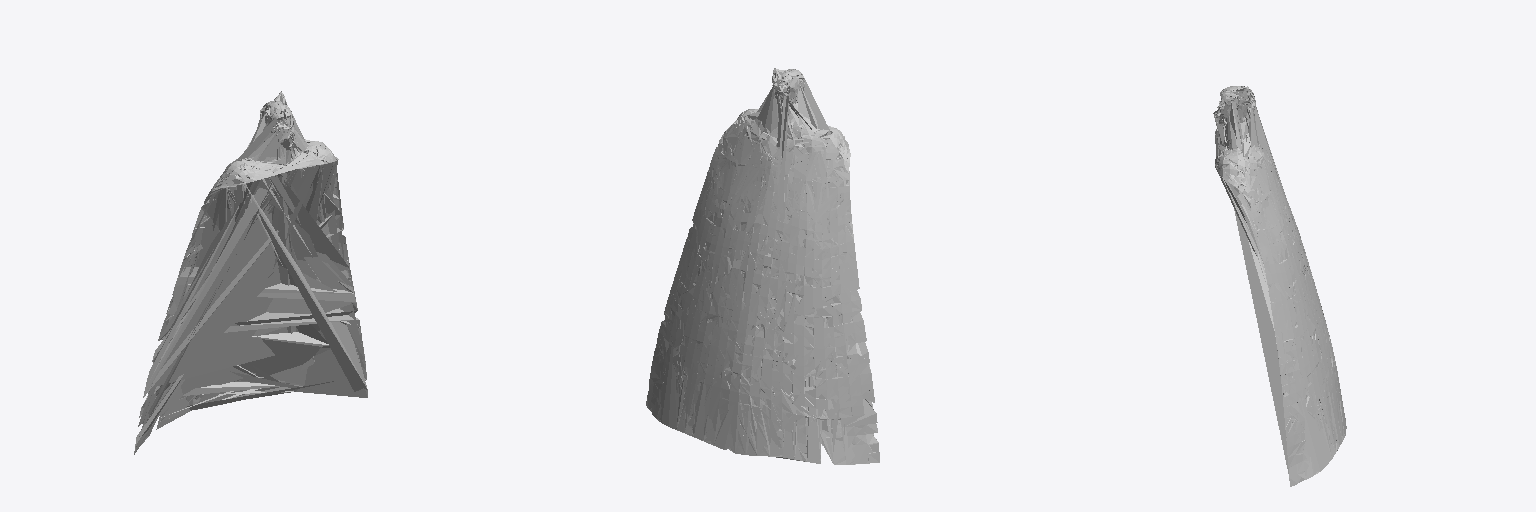
3 renders of one model, left to right at view 1: azimuth 30°, elevation 25°; view 2: azimuth 150°, elevation 25°; view 3: azimuth 270°, elevation 25°, orthographic.
Visible parts, largest first — view 1: Model001_24_BatmanYear1BodyMAT_0.4_0_0, Model001_24_BatmanYear1MAT_0.4_0_0, Model001_24_BatmanYear1Legs_0.4_0_0, Model001_25_BatmanEarth1Cape1nPart!_0.4_0_0, Model001_25_BatmanEarth1Cape(3)1nPart!_0.4_0_0, Model001_25_BatmanEarth1Cape(1)1nPart!_0.4_0_0, Model001_24_BatmanV3EyesMIC_0.4_0_0; view 2: Model001_24_BatmanYear1BodyMAT_0.4_0_0, Model001_24_BatmanYear1MAT_0.4_0_0, Model001_24_BatmanYear1Legs_0.4_0_0, Model001_24_BatmanV3EyesMIC_0.4_0_0, Model001_25_BatmanEarth1Cape(1)1nPart!_0.4_0_0, Model001_25_BatmanEarth1Cape1nPart!_0.4_0_0, Model001_24_BatmanYear1BodyMAT(1)_0.4_0_0, Model001_25_BatmanEarth1Cape(2)1nPart!_0.4_0_0, Model001_25_BatmanEarth1Cape(2)!_0.4_0_0, Model001_25_BatmanEarth1Cape(3)1nPart!_0.4_0_0; view 3: Model001_24_BatmanYear1BodyMAT_0.4_0_0, Model001_24_BatmanYear1Legs_0.4_0_0, Model001_24_BatmanYear1MAT_0.4_0_0, Model001_25_BatmanEarth1Cape(1)1nPart!_0.4_0_0.
Boxes of the visible parts, x1=… form: Model001_24_BatmanYear1BodyMAT_0.4_0_0: x1=134, y1=94, x2=367, y2=454; Model001_24_BatmanYear1MAT_0.4_0_0: x1=134, y1=91, x2=365, y2=453; Model001_24_BatmanYear1Legs_0.4_0_0: x1=147, y1=141, x2=367, y2=429; Model001_25_BatmanEarth1Cape1nPart!_0.4_0_0: x1=180, y1=141, x2=335, y2=399; Model001_25_BatmanEarth1Cape(3)1nPart!_0.4_0_0: x1=183, y1=186, x2=307, y2=395; Model001_25_BatmanEarth1Cape(1)1nPart!_0.4_0_0: x1=194, y1=142, x2=336, y2=384; Model001_24_BatmanV3EyesMIC_0.4_0_0: x1=189, y1=165, x2=319, y2=409; Model001_24_BatmanYear1BodyMAT_0.4_0_0: x1=647, y1=68, x2=877, y2=463; Model001_24_BatmanYear1MAT_0.4_0_0: x1=650, y1=69, x2=879, y2=464; Model001_24_BatmanYear1Legs_0.4_0_0: x1=646, y1=109, x2=866, y2=463; Model001_24_BatmanV3EyesMIC_0.4_0_0: x1=677, y1=131, x2=847, y2=455; Model001_25_BatmanEarth1Cape(1)1nPart!_0.4_0_0: x1=680, y1=109, x2=843, y2=455; Model001_25_BatmanEarth1Cape1nPart!_0.4_0_0: x1=676, y1=110, x2=850, y2=454; Model001_24_BatmanYear1BodyMAT(1)_0.4_0_0: x1=680, y1=109, x2=849, y2=456; Model001_25_BatmanEarth1Cape(2)1nPart!_0.4_0_0: x1=684, y1=109, x2=849, y2=454; Model001_25_BatmanEarth1Cape(2)!_0.4_0_0: x1=680, y1=149, x2=850, y2=442; Model001_25_BatmanEarth1Cape(3)1nPart!_0.4_0_0: x1=684, y1=134, x2=846, y2=454; Model001_24_BatmanYear1BodyMAT_0.4_0_0: x1=1215, y1=86, x2=1339, y2=482; Model001_24_BatmanYear1Legs_0.4_0_0: x1=1215, y1=129, x2=1346, y2=486; Model001_24_BatmanYear1MAT_0.4_0_0: x1=1213, y1=87, x2=1345, y2=472; Model001_25_BatmanEarth1Cape(1)1nPart!_0.4_0_0: x1=1217, y1=151, x2=1344, y2=450.
Bounding box in the file's own units: 1.7 × 2.42 × 0.8385.